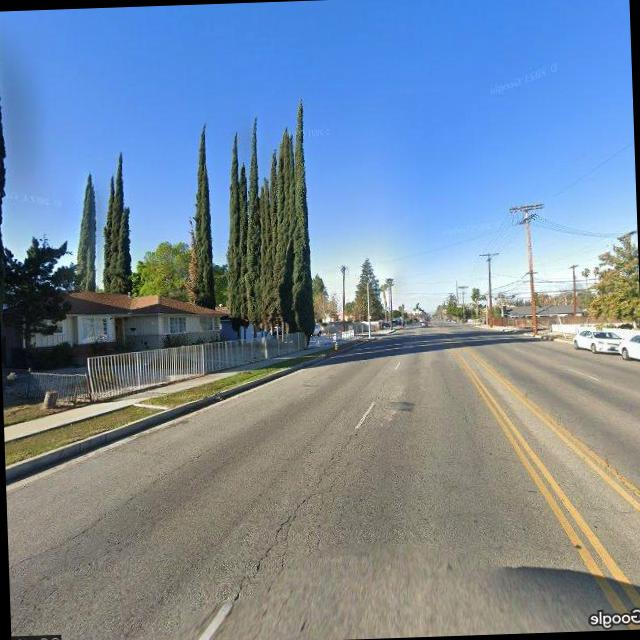crack: (224, 426, 376, 606)
pothole: (120, 442, 218, 507)
